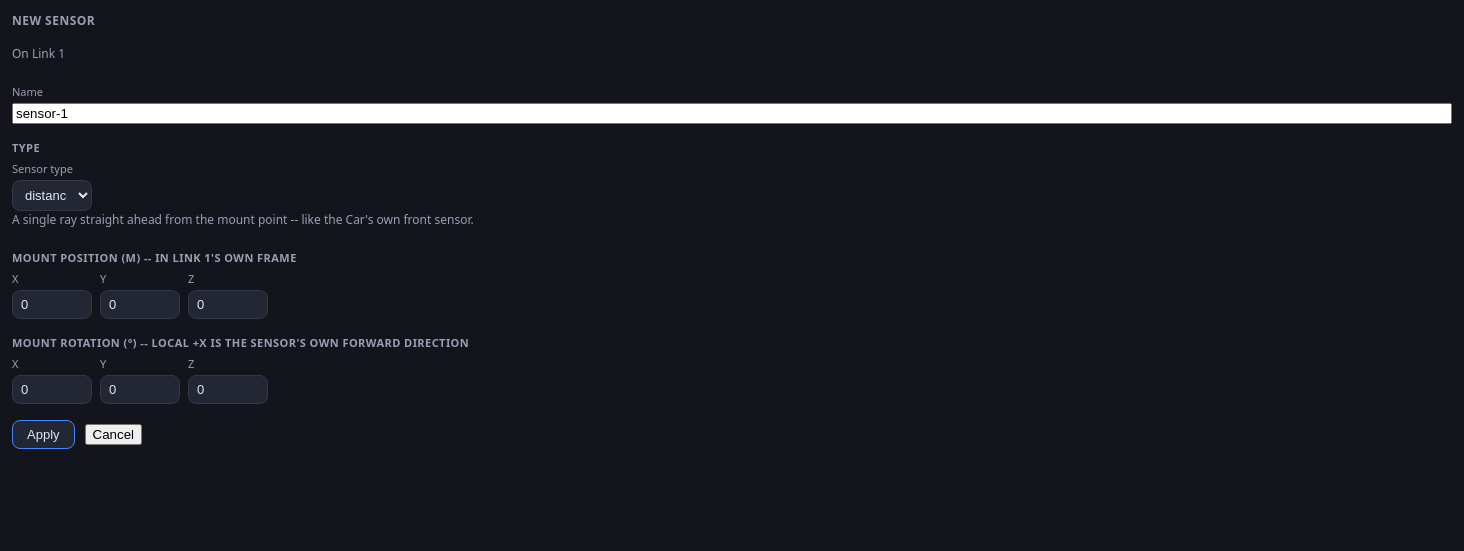
Test: SensorCreator › switching to lidar shows the rays/fov params with sensible defaults
Step 1. Select "lidar" in the dropdown labelled "Sensor type" → (52, 196), box 12,180 -> 92,211
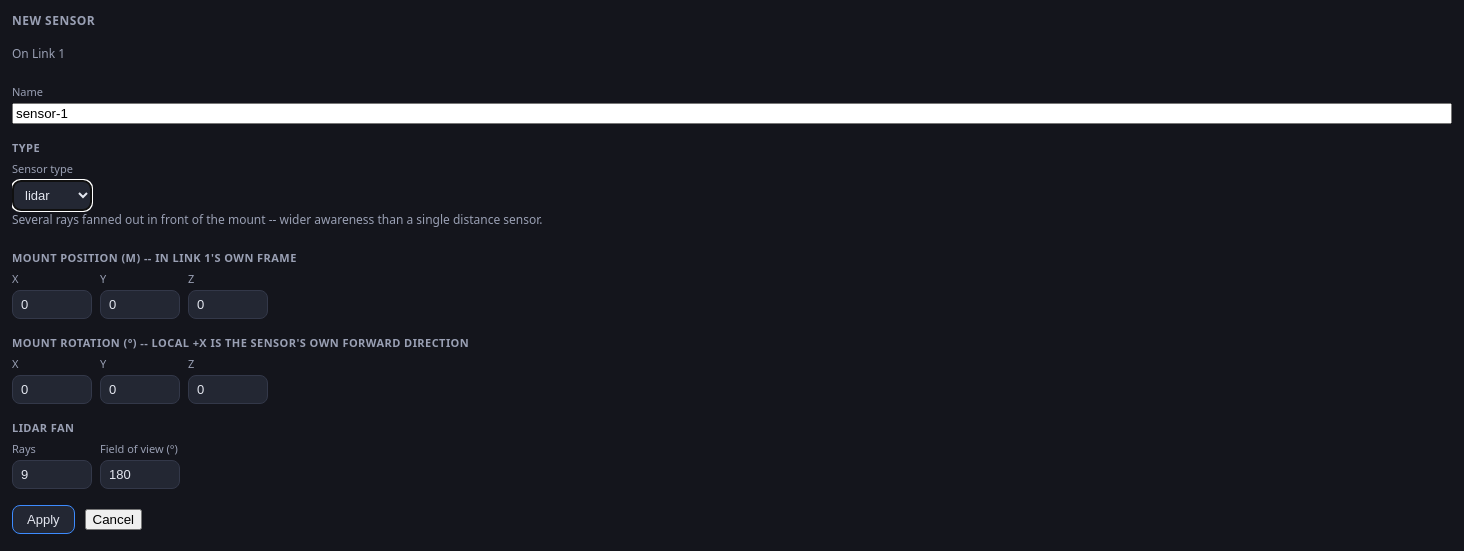
Result: the number field named "sensor lidar rays" holds "9" at 12,460 -> 92,489
Result: the number field named "sensor lidar fov" holds "180" at 100,460 -> 180,489
